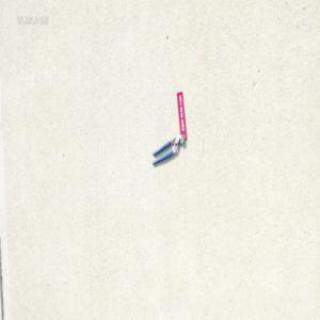LuggageTagtrack_idkeyframe: (175, 88, 187, 139)
Pliertrack_idkeyframe: (151, 132, 184, 164)
